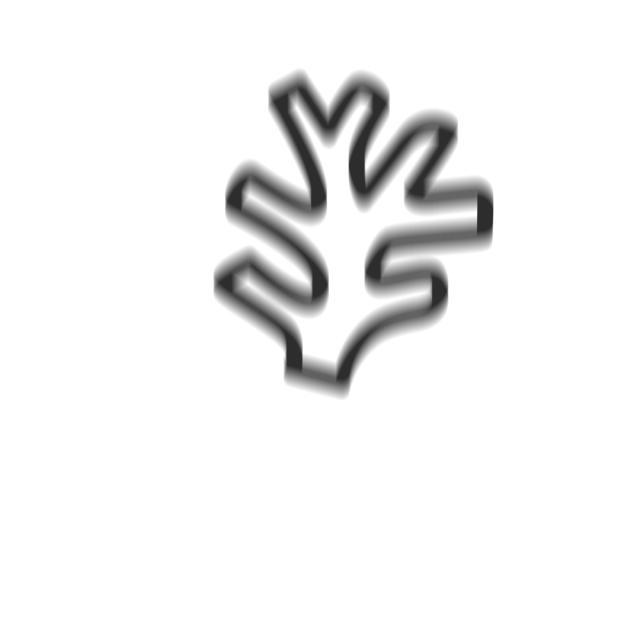coral: (200, 62, 500, 408)
